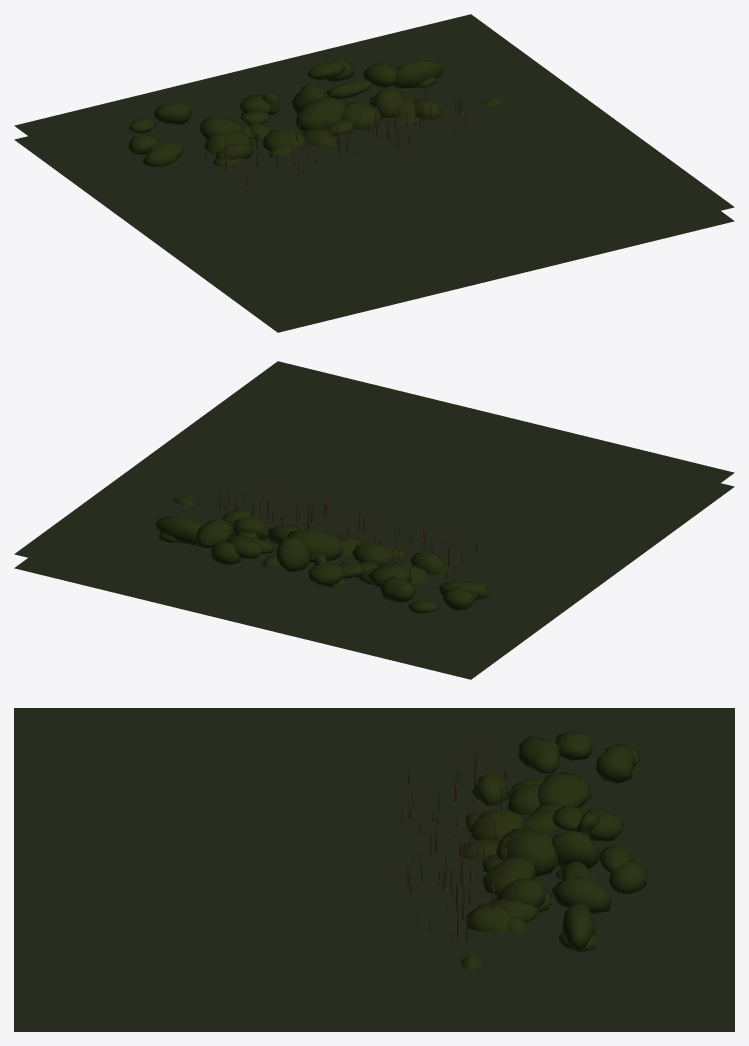
The picture shows the model from 3 angles, top to bottom: view 1: azimuth 30°, elevation 25°; view 2: azimuth 150°, elevation 25°; view 3: azimuth 270°, elevation 25°; orthographic projection. The views are drawn at different scales.
Visible parts, largest first — view 1: canopyB.001, canopyA.001, bgcanopy_8.001, bgcanopy_41.001, bgcanopy_17.001, bgcanopy_15.001, bgcanopy_3.001, bgcanopy_24.001, bgcanopy_45.001, bgcanopy_30.001, bgcanopy_5.001, bgcanopy_12.001 (+1 smaller); view 2: canopyB.001, canopyA.001, bgcanopy_8.001, bgcanopy_28.001, bgcanopy_41.001, bgcanopy_5.001, bgcanopy_15.001, bgcanopy_45.001, bgcanopy_43.001, bgcanopy_30.001, bgcanopy_32.001, bgcanopy_14.001 (+3 smaller); view 3: canopyB.001, canopyA.001, bgcanopy_8.001, bgcanopy_30.001, bgcanopy_5.001, bgcanopy_28.001, bgcanopy_15.001, bgcanopy_17.001, bgcanopy_41.001, bgcanopy_3.001, bgcanopy_45.001, bgcanopy_10.001 (+11 smaller).
Part boxes in pixels (x1,y1,x2,y2): canopyB.001: (14,14,734,318); canopyA.001: (14,136,734,332); bgcanopy_8.001: (295,96,346,131); bgcanopy_41.001: (393,60,443,88); bgcanopy_17.001: (342,101,383,129); bgcanopy_15.001: (263,129,306,150); bgcanopy_3.001: (142,142,184,166); bgcanopy_24.001: (374,88,404,117); bgcanopy_45.001: (153,102,191,124); bgcanopy_30.001: (199,116,244,140); bgcanopy_5.001: (363,62,397,87); bgcanopy_12.001: (326,79,372,98); canopyB.001: (14,361,734,665); canopyA.001: (14,483,734,679); bgcanopy_8.001: (286,529,343,561); bgcanopy_28.001: (276,537,311,571); bgcanopy_41.001: (154,515,202,545); bgcanopy_5.001: (195,519,232,548); bgcanopy_15.001: (352,543,395,565); bgcanopy_45.001: (380,576,415,602); bgcanopy_43.001: (308,563,344,586); bgcanopy_30.001: (368,564,411,588); bgcanopy_32.001: (442,588,476,610); bgcanopy_14.001: (410,552,445,575); canopyB.001: (14,708,734,1012); canopyA.001: (14,1012,734,1031); bgcanopy_8.001: (502,829,559,876); bgcanopy_30.001: (537,771,591,807); bgcanopy_5.001: (552,876,612,913); bgcanopy_28.001: (551,830,601,868); bgcanopy_15.001: (470,809,525,840); bgcanopy_17.001: (482,857,536,895); bgcanopy_41.001: (562,902,595,950); bgcanopy_3.001: (519,736,559,773); bgcanopy_45.001: (596,746,634,783); bgcanopy_10.001: (465,903,511,932).
Bounding box in the file's own units: 120 × 18.99 × 120.
